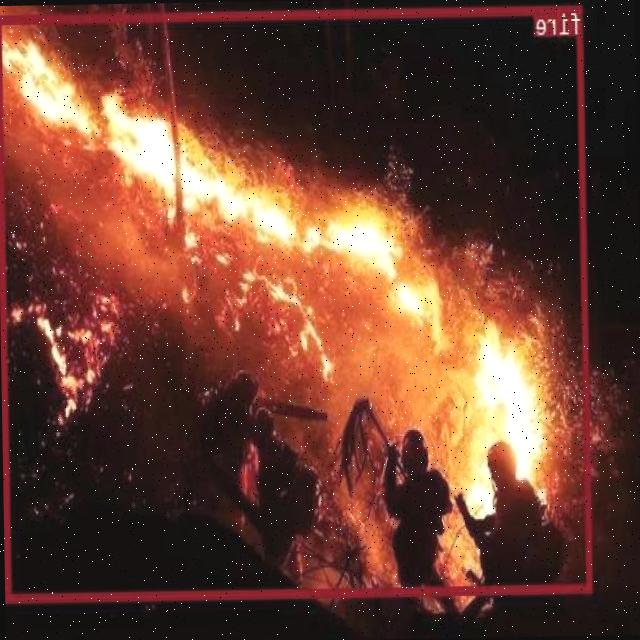fire: (0, 3, 593, 599)
